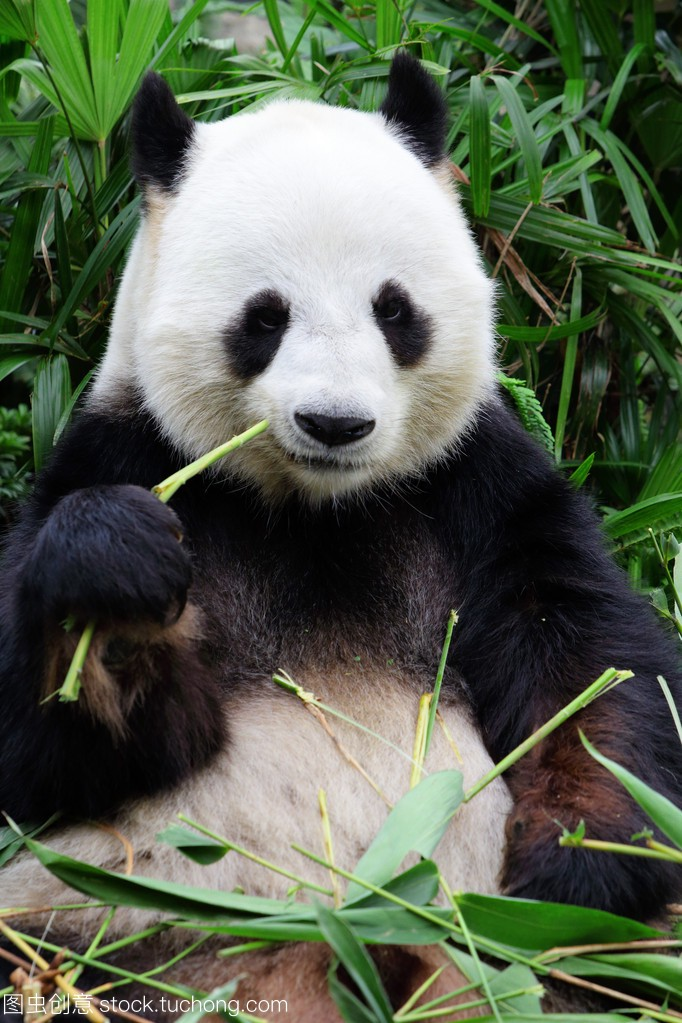panda: (27, 51, 675, 903)
